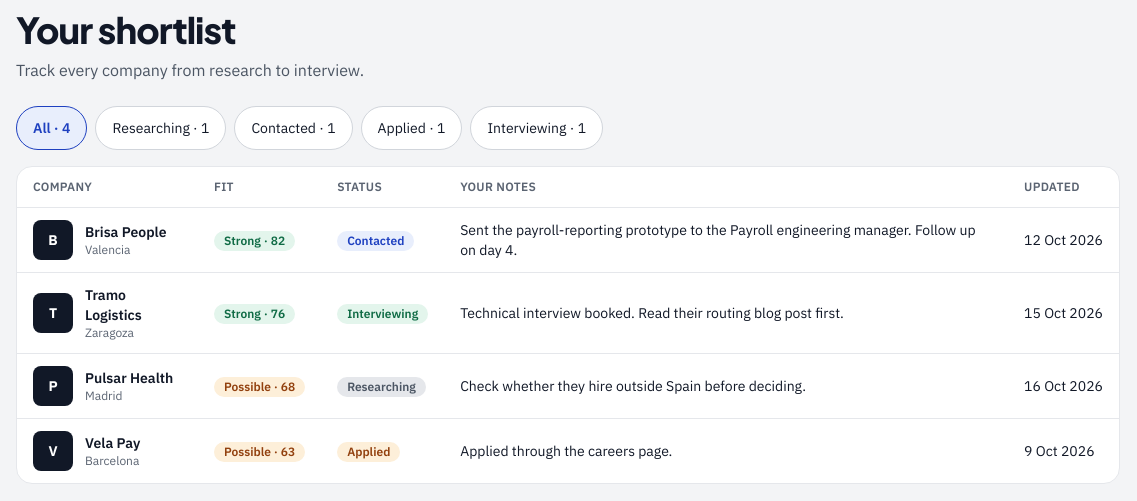
Scenario: Shortlist › filters by status and shows counts
This screenshot has width=1137, height=501.
Click the button "Applied · 1".
click(412, 128)  # box [361,106,462,150]
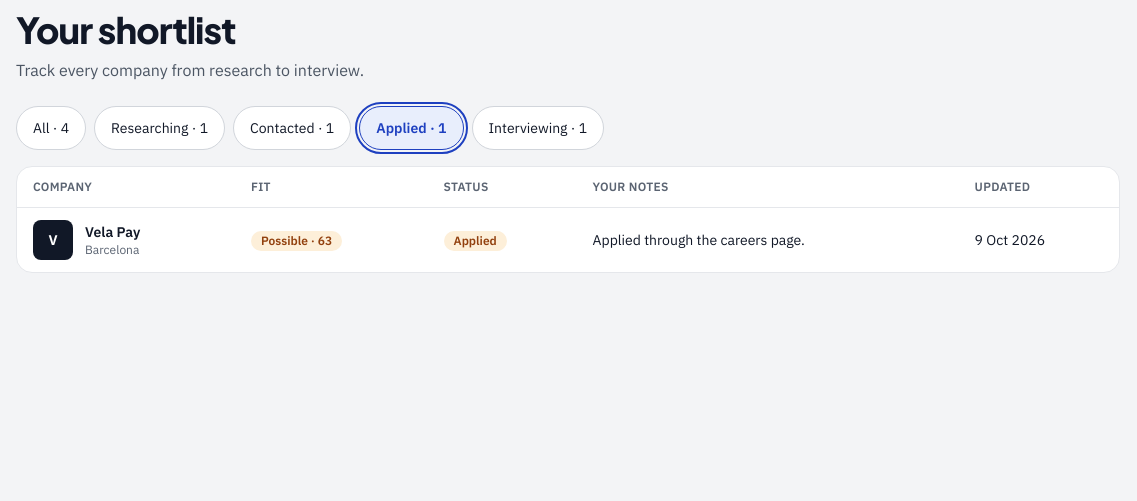
Now the number of rows is 2, box [17,167,1119,208]; [17,208,1119,272]
